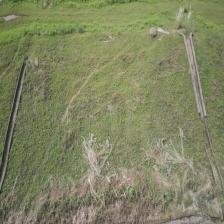slope_drain: (0, 53, 28, 197), (184, 35, 208, 118)
vegetation: (1, 23, 77, 44)
